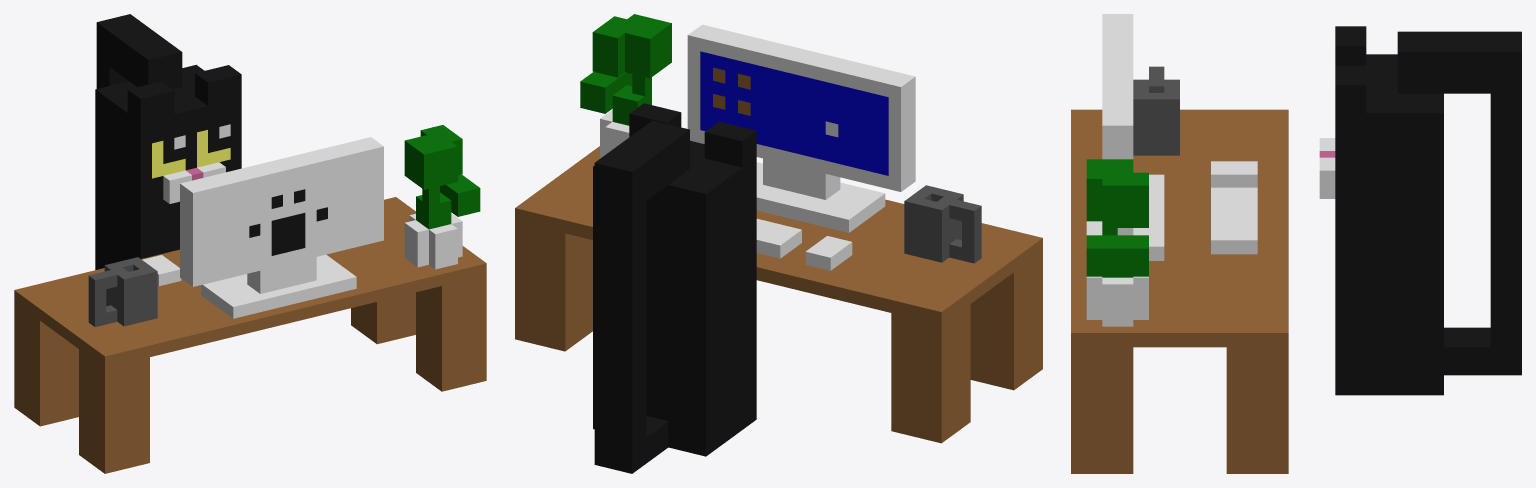
Rendered from cat.glb.
3 views of the same model, side by side, from view 1: azimuth 30°, elevation 25°; view 2: azimuth 150°, elevation 25°; view 3: azimuth 270°, elevation 25° (orthographic). The views are drawn at different scales.
Visible parts, largest first — view 1: lokicat; view 2: lokicat; view 3: lokicat.
Boxes of the visible parts, x1,y1,x2,y2 form: lokicat: (14,14,486,473); lokicat: (515,14,1042,473); lokicat: (1071,14,1521,473).
Bounding box in the file's own units: 3.4 × 2.3 × 2.9.
1 material, 1 textured.
